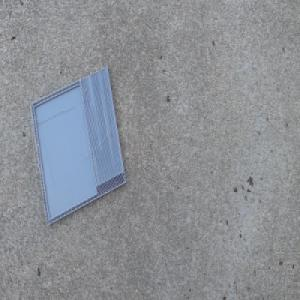PlasticPart: (29, 64, 127, 226)
